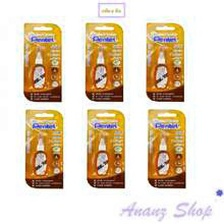book: (21, 20, 65, 103), (22, 107, 65, 191), (144, 107, 187, 190), (84, 107, 127, 190), (83, 20, 125, 104), (144, 20, 185, 103)
correction_fluid: (149, 42, 170, 92), (152, 129, 172, 178), (91, 129, 111, 178), (89, 45, 109, 90), (28, 45, 47, 91), (31, 130, 49, 177)
